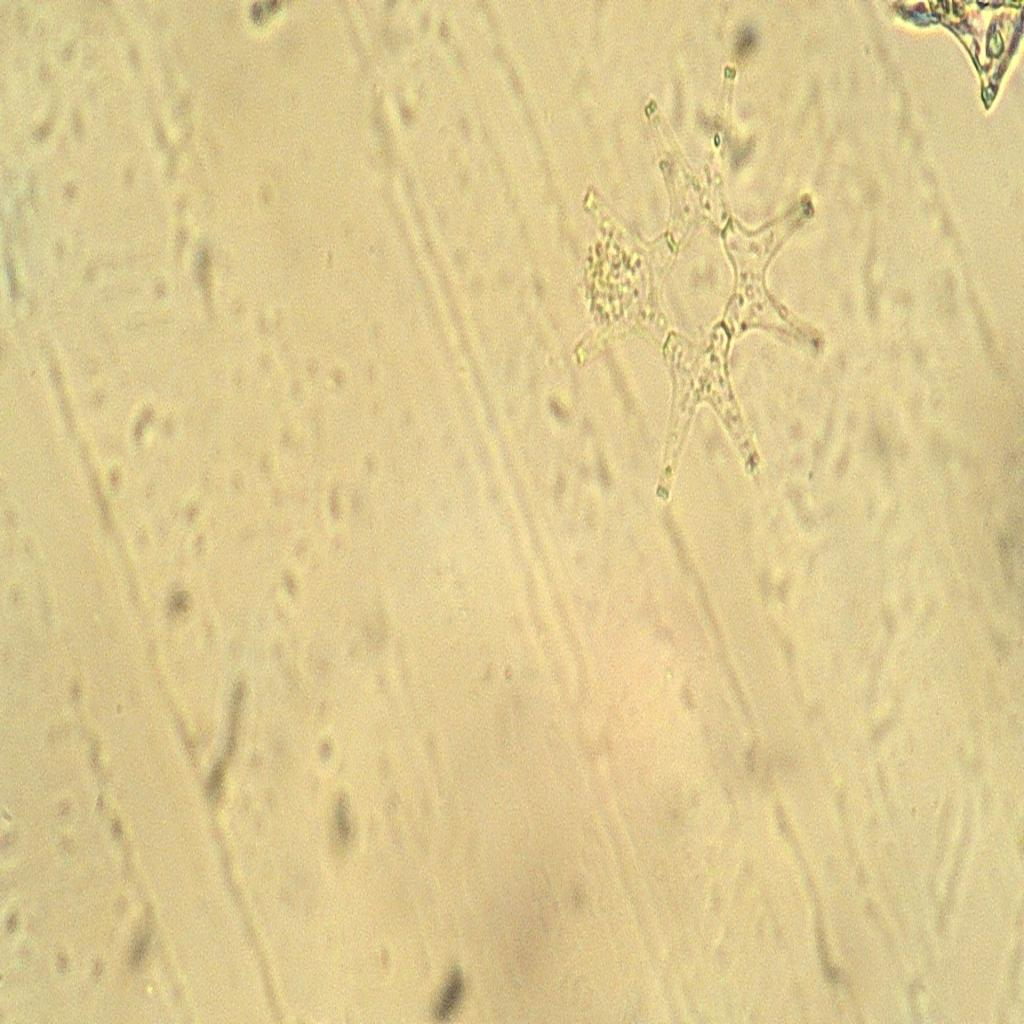Pediastrum_75TH: (555, 46, 832, 541)
